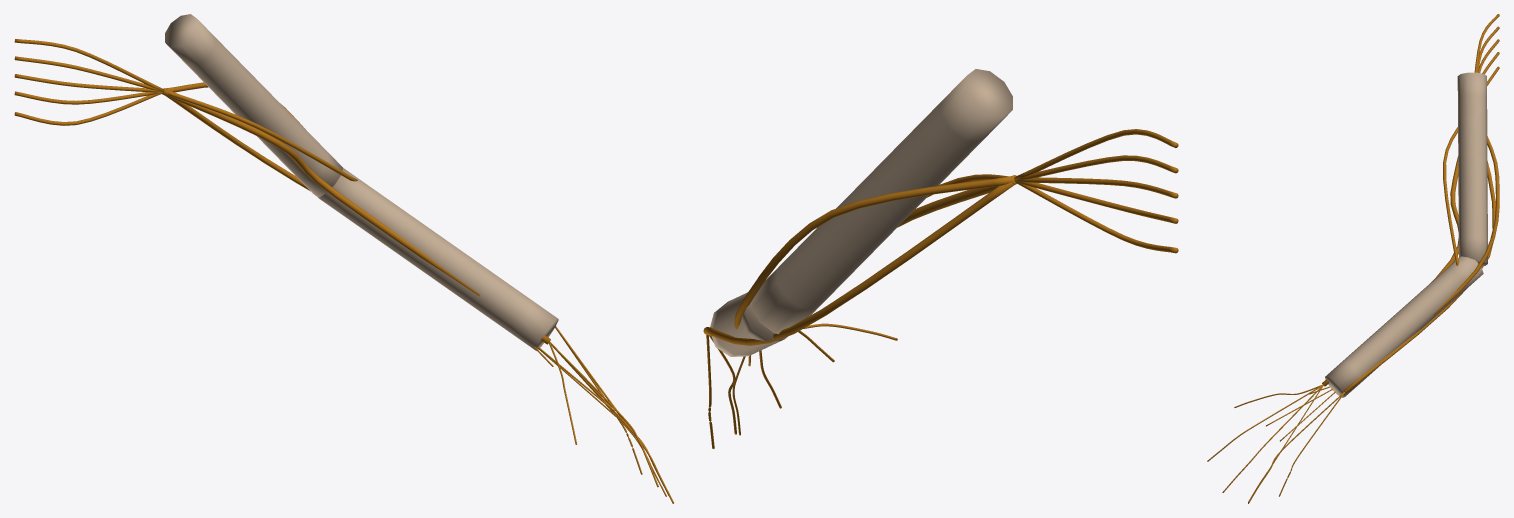
File: arm-nerves.glb
3 views of the same model, side by side, from view 1: azimuth 30°, elevation 25°; view 2: azimuth 150°, elevation 25°; view 3: azimuth 270°, elevation 25° (orthographic). The views are drawn at different scales.
Visible parts, largest first — view 1: Limb orientation core.001, Limb orientation core, Left median nerve, Left musculocutaneous nerve, Left ulnar nerve; view 2: Limb orientation core, Left ulnar nerve, Left radial nerve, Limb orientation core.001, Left brachial plexus root C5, Left brachial plexus root T1, Left brachial plexus root C8, Left brachial plexus root C6, Left brachial plexus root C7, Left median nerve; view 3: Limb orientation core, Limb orientation core.001, Left radial nerve, Left ulnar nerve, Left musculocutaneous nerve, Left median nerve.
Part boxes in pixels (x1,y1,x2,y2): Limb orientation core.001: (318,168,558,350); Limb orientation core: (165,14,342,197); Left median nerve: (162,88,550,344); Left musculocutaneous nerve: (163,90,357,181); Left ulnar nerve: (166,96,310,191); Limb orientation core: (751,69,1012,333); Left ulnar nerve: (703,180,1016,345); Left radial nerve: (734,176,1014,328); Limb orientation core.001: (710,292,787,356); Left brachial plexus root C5: (1014,129,1178,180); Left brachial plexus root T1: (1015,181,1178,253); Left brachial plexus root C8: (1015,181,1178,223); Left brachial plexus root C6: (1015,155,1178,180); Left brachial plexus root C7: (1015,177,1178,198); Left median nerve: (897,175,1016,227); Limb orientation core: (1457,72,1487,266); Limb orientation core.001: (1325,256,1483,397); Left radial nerve: (1433,136,1499,315); Left ulnar nerve: (1343,161,1495,393); Left musculocutaneous nerve: (1443,127,1458,265); Left median nerve: (1322,156,1458,386).
Bounding box in the file's own units: 0.493 × 0.437 × 0.3606.
2 materials, 2 textured.
